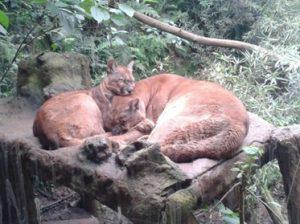OncaParda: (110, 76, 254, 167), (27, 59, 137, 141)
